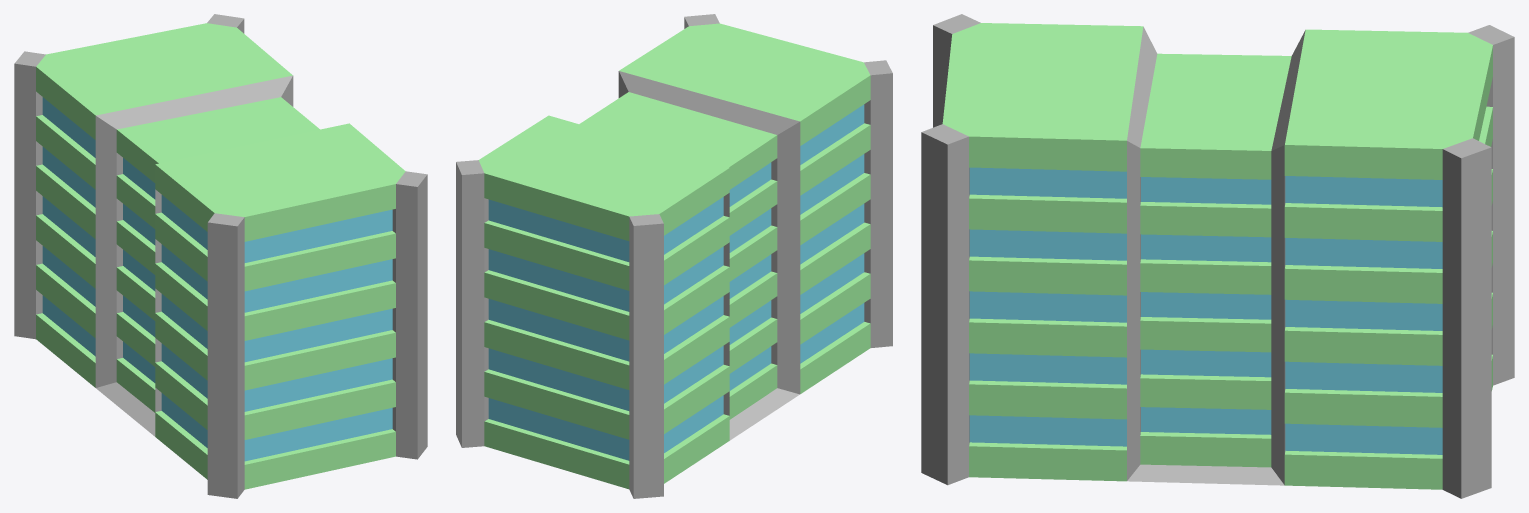
File: Building_05.fbx
3 renders of one model, left to right at view 1: azimuth 30°, elevation 25°; view 2: azimuth 150°, elevation 25°; view 3: azimuth 270°, elevation 25°, orthographic. The views are drawn at different scales.
Parts seen in each view (by area): view 1: Building_15; view 2: Building_15; view 3: Building_15.
Part boxes in pixels (x1,y1,x2,y2): Building_15: (14,14,427,498); Building_15: (456,14,892,498); Building_15: (921,14,1514,498).
Bounding box in the file's own units: 4151 × 4571 × 7215.
